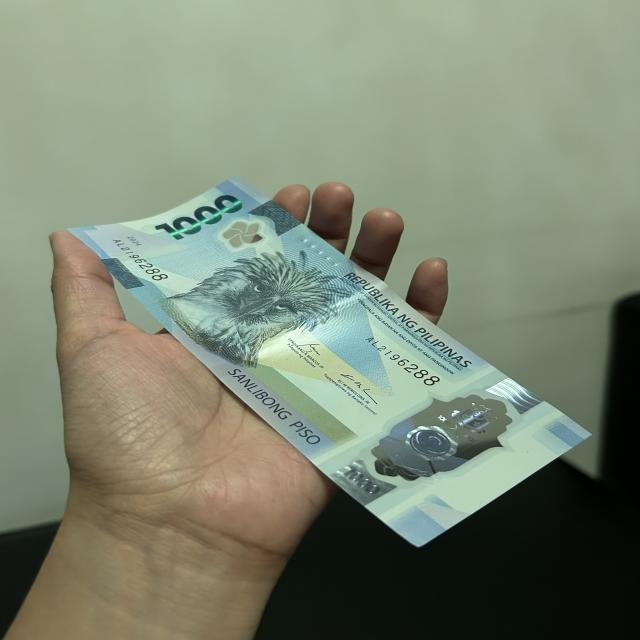clear_window: (368, 398, 530, 477)
eagle: (178, 252, 336, 349)
sampaguita: (219, 221, 270, 247)
